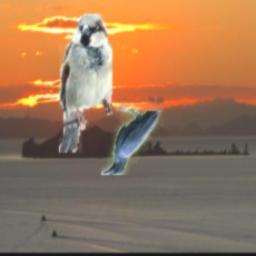Crow: (101, 98, 164, 176)
Sparrow: (59, 14, 112, 153)
